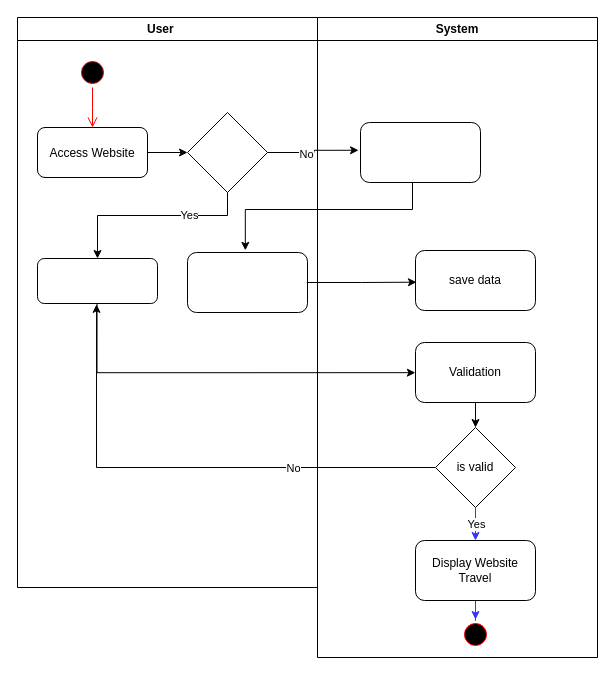
This 615x675 diagram has some shape labels left out. The box of each missing label's shape, as (x1, y1, x2, y2) in pixels:
Create Account: (360, 122, 480, 182)
Enter Data, Email and Password: (186, 252, 308, 312)
Enter Email and Password: (36, 258, 158, 304)
Have Account?: (186, 112, 268, 192)
